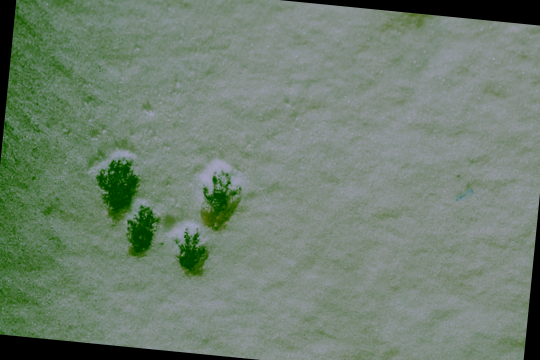ecureuil: (77, 142, 172, 266), (191, 160, 254, 233), (163, 221, 212, 289)
